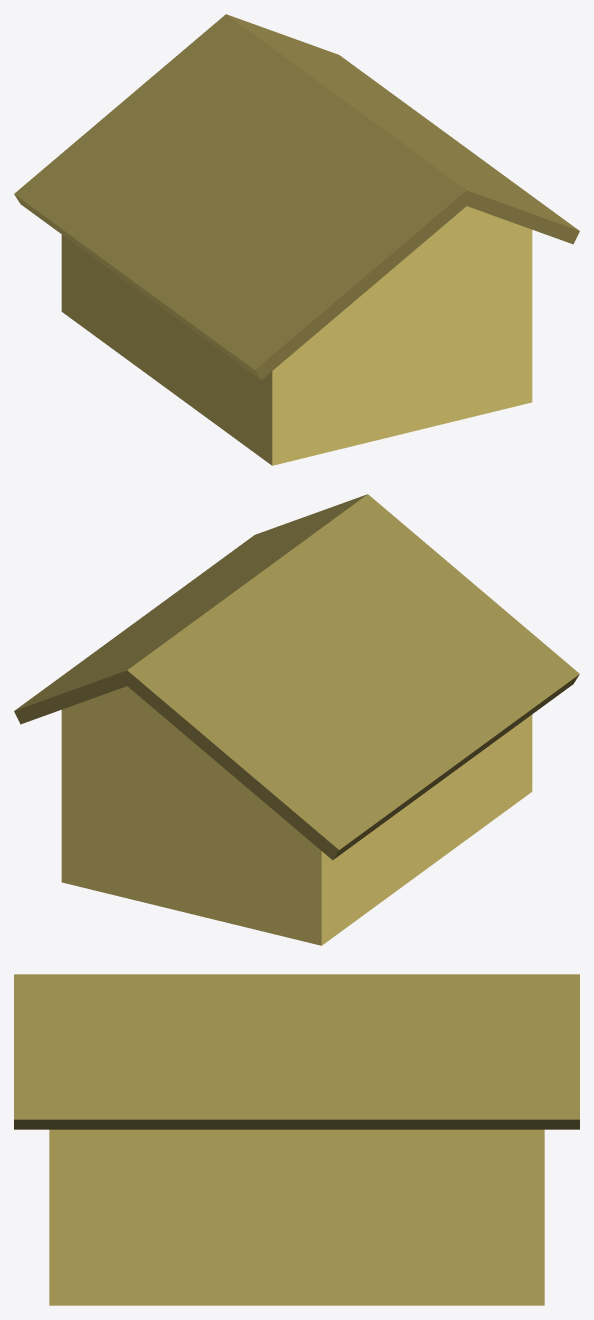
Rendered from result.glb.
3 renders of one model, top to bottom at view 1: azimuth 30°, elevation 25°; view 2: azimuth 150°, elevation 25°; view 3: azimuth 270°, elevation 25°, orthographic. The views are drawn at different scales.
Parts seen in each view (by area): view 1: 932be473-d680-449f-832d-457917b7e0d2__undefined (×2), 170d68e8-9cf7-471f-8842-d4f007109cf3__undefined; view 2: 932be473-d680-449f-832d-457917b7e0d2__undefined (×2), 170d68e8-9cf7-471f-8842-d4f007109cf3__undefined; view 3: 932be473-d680-449f-832d-457917b7e0d2__undefined, 170d68e8-9cf7-471f-8842-d4f007109cf3__undefined.
Part boxes in pixels (x1,y1,x2,y2): 932be473-d680-449f-832d-457917b7e0d2__undefined (×2): (14,14,579,380); 170d68e8-9cf7-471f-8842-d4f007109cf3__undefined: (61,206,532,465); 932be473-d680-449f-832d-457917b7e0d2__undefined (×2): (14,494,579,860); 170d68e8-9cf7-471f-8842-d4f007109cf3__undefined: (61,686,532,945); 932be473-d680-449f-832d-457917b7e0d2__undefined: (14,974,579,1129); 170d68e8-9cf7-471f-8842-d4f007109cf3__undefined: (49,1129,544,1305).
Size of the model in its own units: 624 by 445 by 800.
